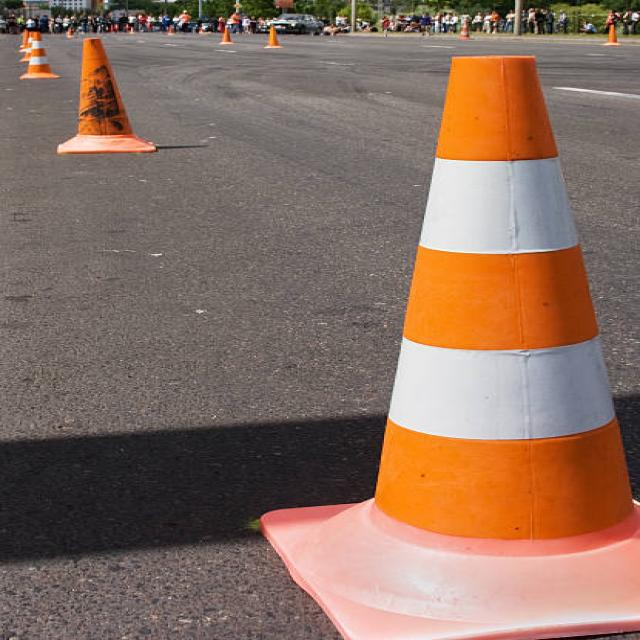Traffic Cone: (223, 33, 640, 640)
